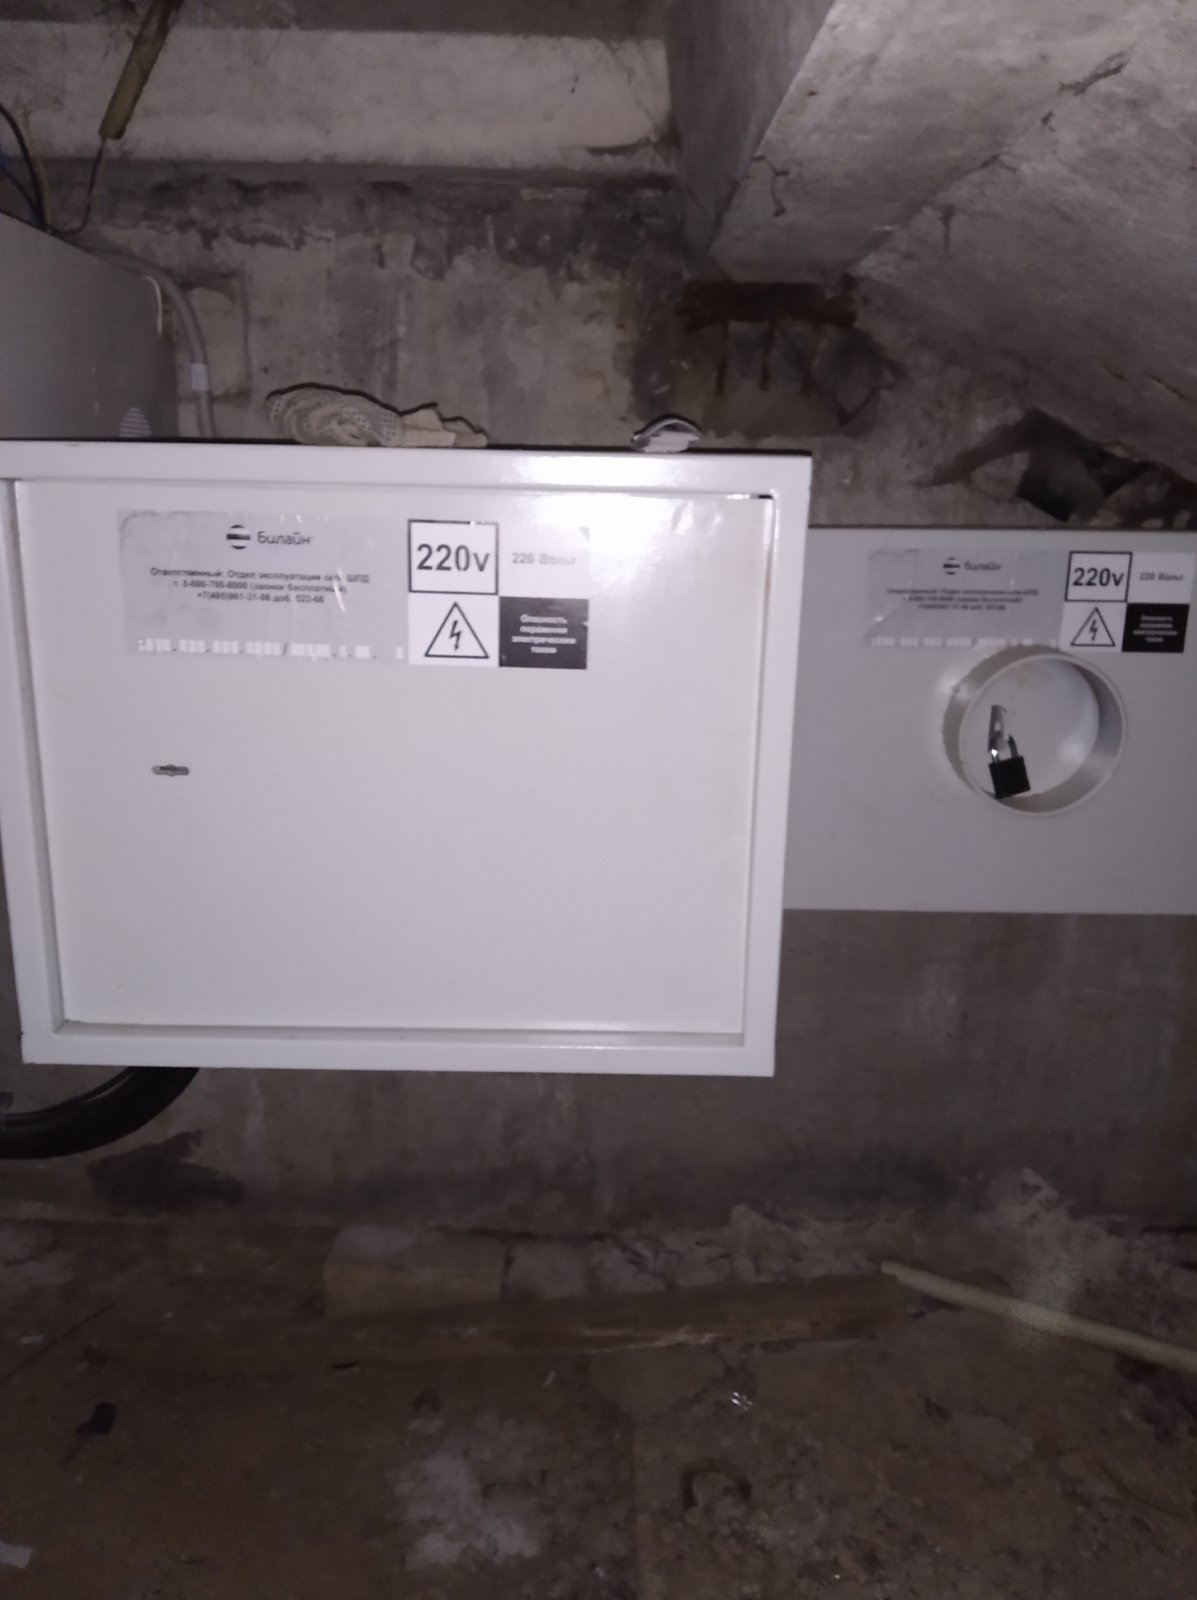shta-3: (776, 507, 1192, 928)
shta-9m: (0, 424, 825, 1093)
